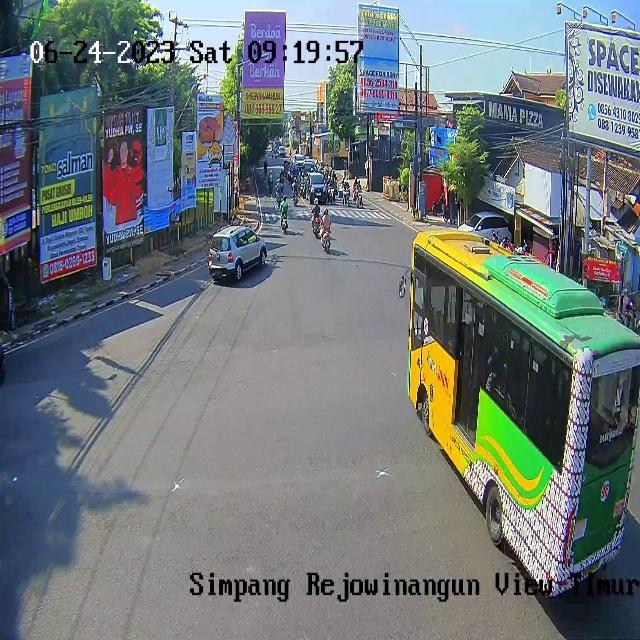bus: (614, 300, 640, 327), (322, 228, 331, 252), (312, 215, 321, 235), (343, 186, 350, 206), (281, 214, 288, 234), (330, 186, 336, 202), (300, 180, 306, 194), (288, 171, 294, 181), (294, 192, 298, 206), (353, 180, 357, 191)
car: (405, 229, 640, 603)
motorcycle: (207, 225, 269, 284), (456, 212, 513, 236), (356, 181, 379, 210), (306, 173, 326, 204), (319, 160, 333, 180)
